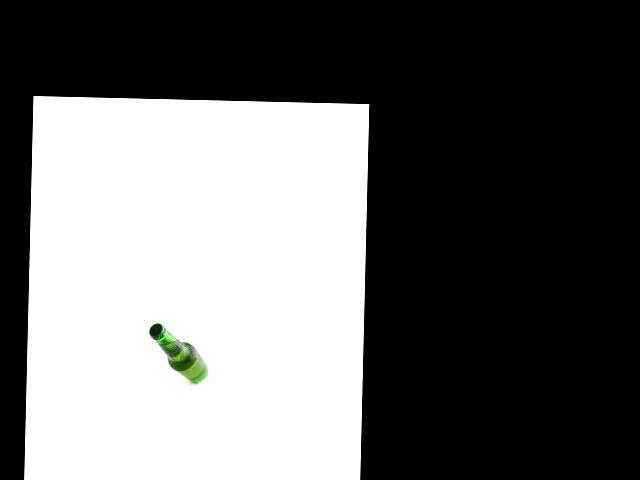beer: (147, 323, 209, 383)
